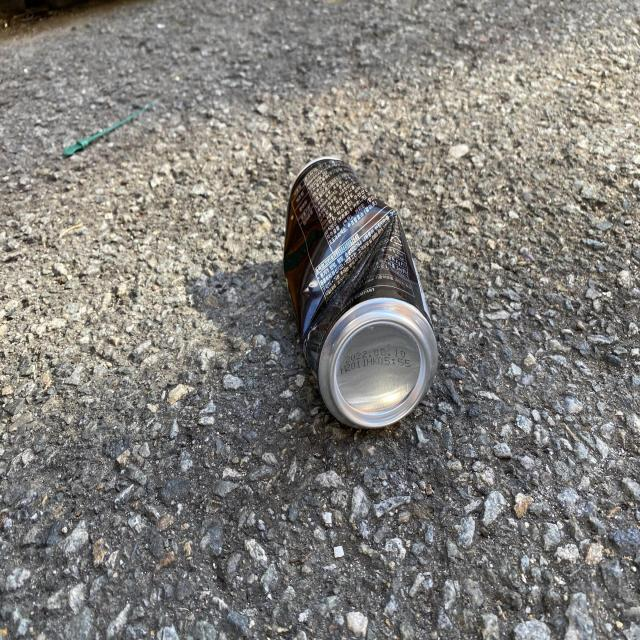can: (284, 156, 438, 429)
